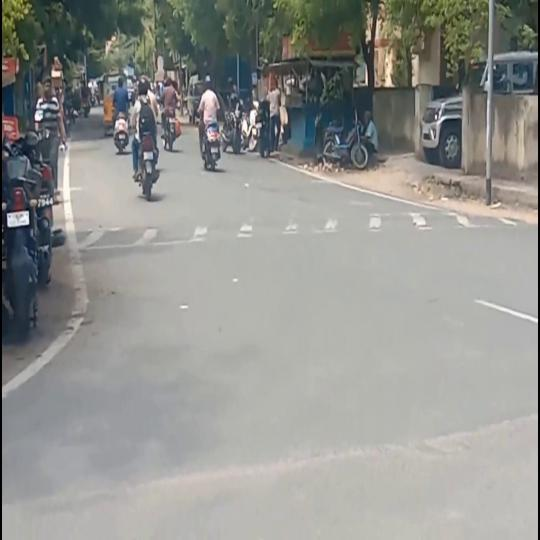Speed Bump: (76, 211, 522, 248)
